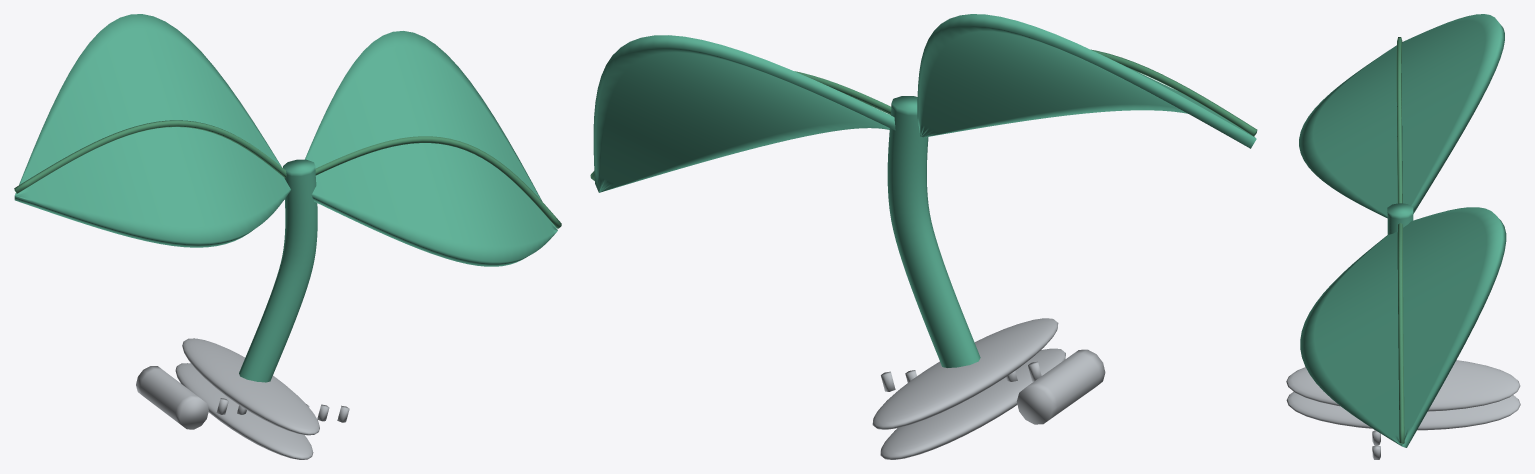
Rendered from Feminine-bob-pashmina249-sprout.glb.
3 renders of one model, left to right at view 1: azimuth 30°, elevation 25°; view 2: azimuth 150°, elevation 25°; view 3: azimuth 270°, elevation 25°, orthographic. The views are drawn at different scales.
Parts seen in each view (by area): view 1: 226 extra / Accessory / mint226, 226 extra / Sprout / clip silver235, 226 extra / Sprout / leaf vein235; view 2: 226 extra / Accessory / mint226, 226 extra / Sprout / clip silver235, 226 extra / Sprout / leaf vein235; view 3: 226 extra / Accessory / mint226, 226 extra / Sprout / clip silver235, 226 extra / Sprout / leaf vein235.
Part boxes in pixels (x1,y1,x2,y2): 226 extra / Accessory / mint226: (14, 14, 557, 382); 226 extra / Sprout / clip silver235: (136, 338, 349, 459); 226 extra / Sprout / leaf vein235: (14, 120, 561, 228); 226 extra / Accessory / mint226: (593, 14, 1256, 367); 226 extra / Sprout / clip silver235: (872, 318, 1105, 459); 226 extra / Sprout / leaf vein235: (590, 49, 1257, 180); 226 extra / Accessory / mint226: (1299, 14, 1506, 447); 226 extra / Sprout / clip silver235: (1286, 360, 1520, 459); 226 extra / Sprout / leaf vein235: (1396, 37, 1404, 443).
Bounding box in the file's own units: 0.2606 × 0.1793 × 0.104.
